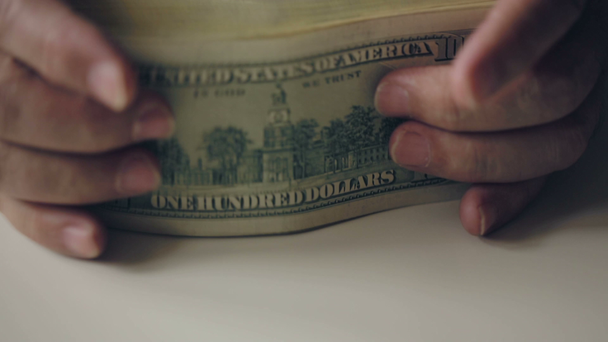cash: (102, 5, 486, 237)
